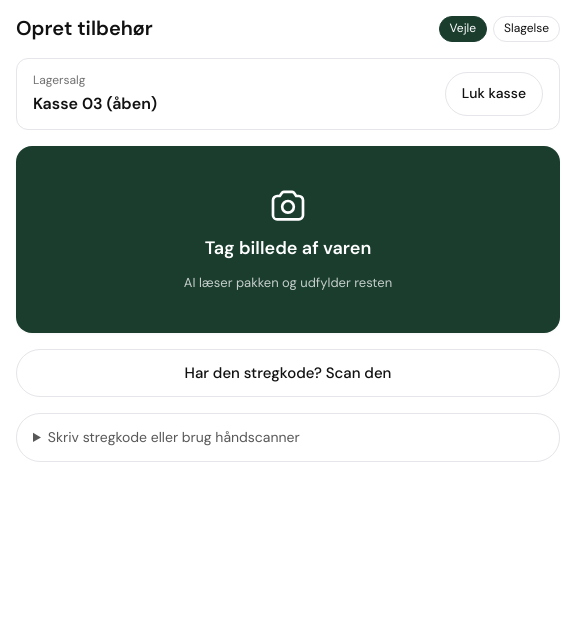
it: QuickCover: kasser › viser den åbne kasse og lukker/åbner næste med bekræftelse
This screenshot has width=577, height=640.
Expected: the text "Kasse 03 (åben)" is shown, top-left (33, 91), bottom-right (157, 117)
Click the button "Luk kasse".
click(494, 94)  # box top-left (445, 72), bottom-right (543, 116)
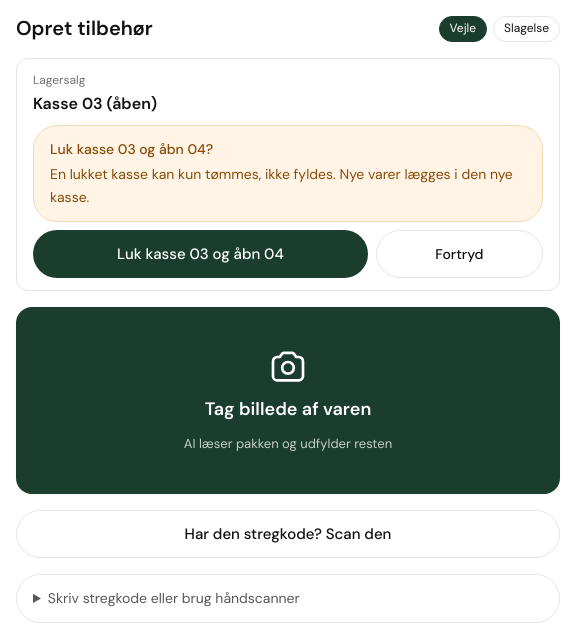
Now the text "Luk kasse 03 og åbn 04?" is shown, box top-left (50, 140), bottom-right (213, 158)
Click the button "Luk kasse 03 og åbn 04".
click(200, 254)  # box top-left (33, 230), bottom-right (368, 278)
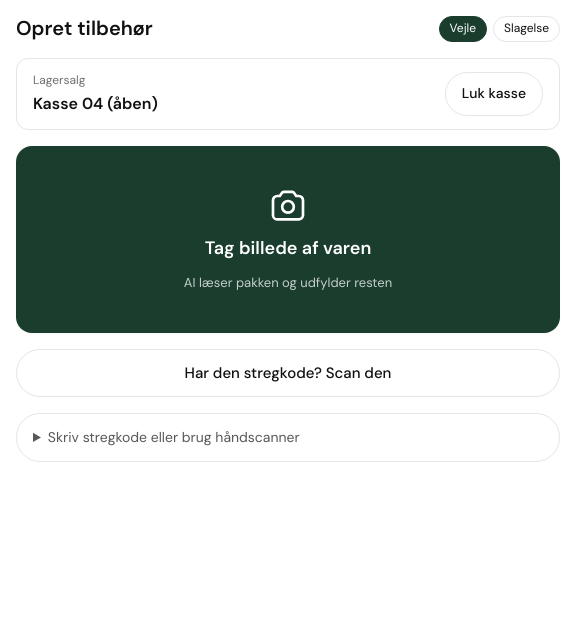
Now the text "Kasse 04 (åben)" is shown, box top-left (33, 91), bottom-right (158, 117)
